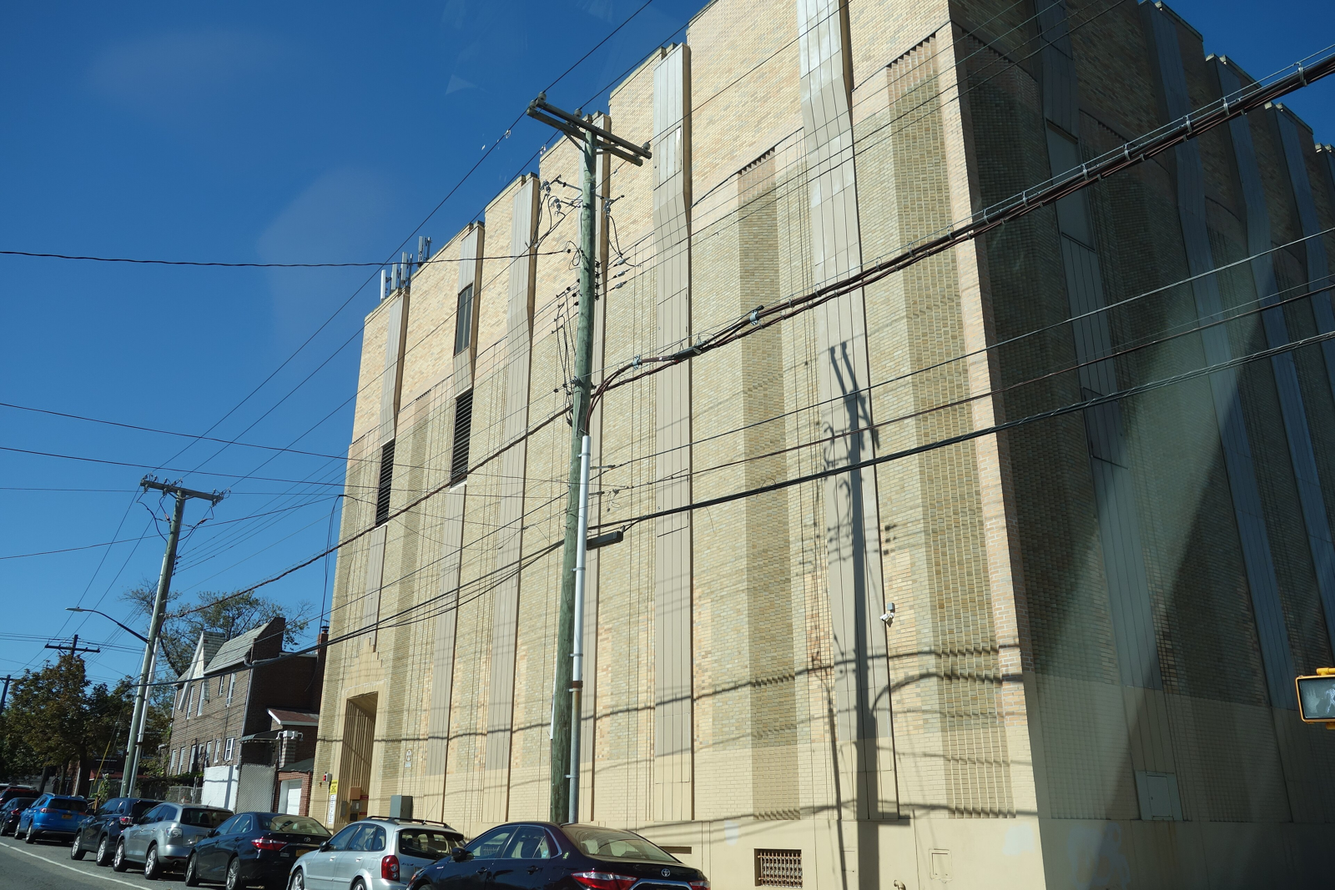fachada: (307, 0, 1335, 890), (167, 621, 327, 815)
poste: (530, 94, 649, 828), (123, 465, 227, 805), (46, 626, 106, 686)
